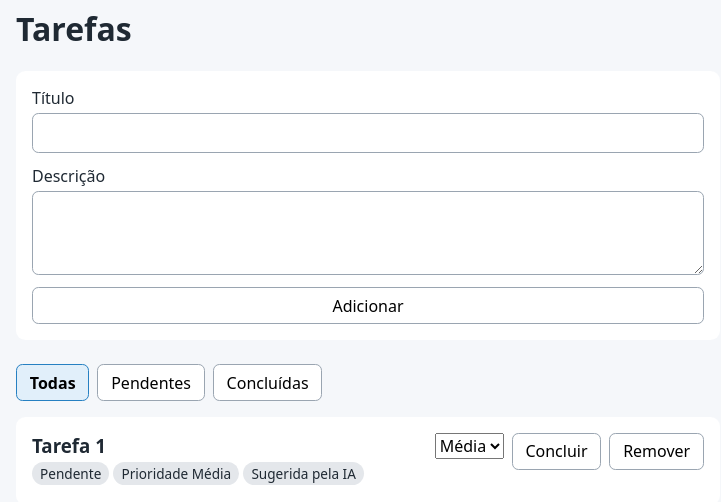
App › conclui uma tarefa
This screenshot has width=721, height=502.
Expected: the heading "Tarefa 1" is shown, [32,433,106,458]
What coordinates should you click on to do the following:
click the button "Concluir"
I would click on:
 (556, 451)
Its box is [512,433,601,470].
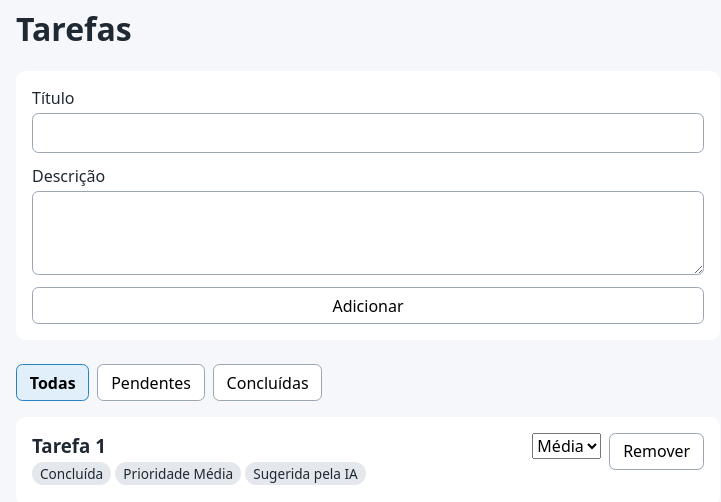
Expected: the text "Concluída" is shown, [32,462,111,485]
Expected: the button "Concluir" is gone
